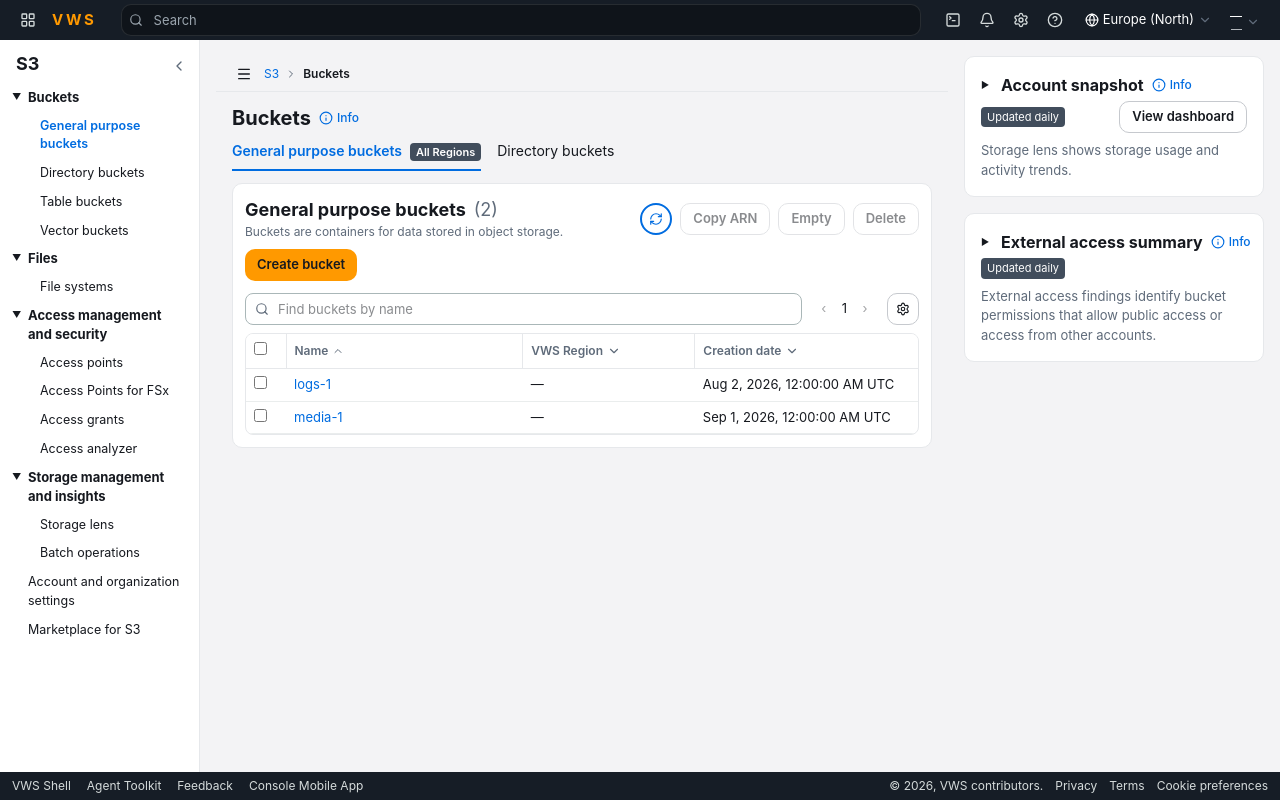
Test: BucketsView › refreshes after a partial delete and keeps the bucket that failed
Click the checkbox named "Select logs-1".
click(260, 382)  # box top-left (254, 376), bottom-right (267, 389)
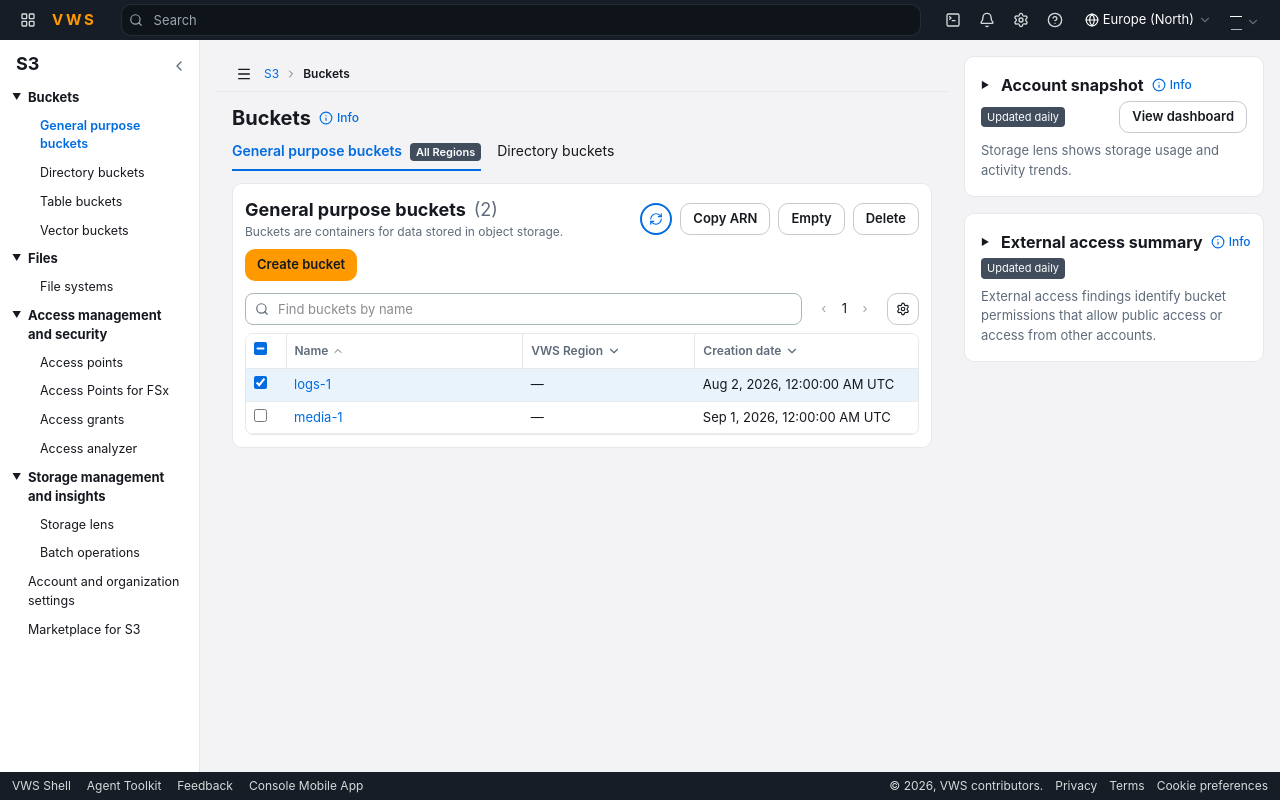
Click the checkbox named "Select media-1".
click(260, 415)  # box top-left (254, 408), bottom-right (267, 422)
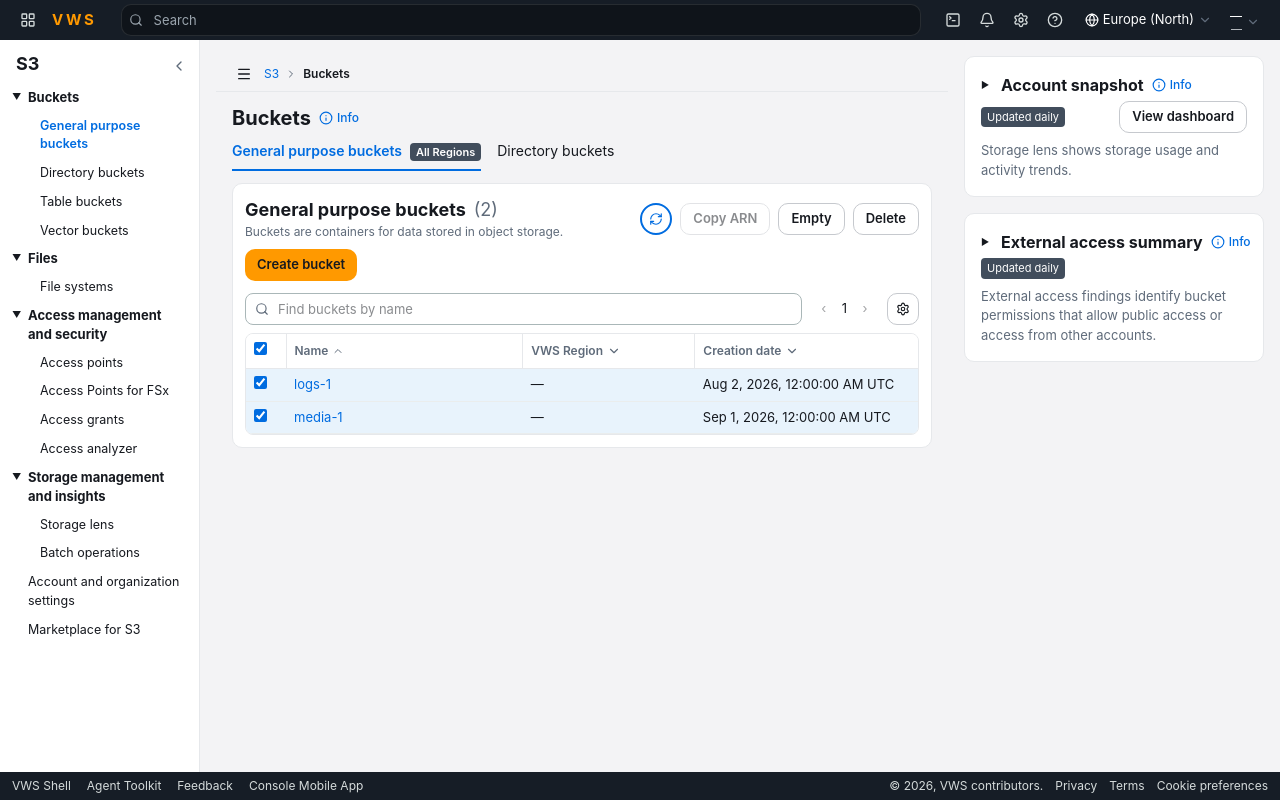
Click the button "Delete".
click(886, 218)  # box top-left (853, 202), bottom-right (919, 234)
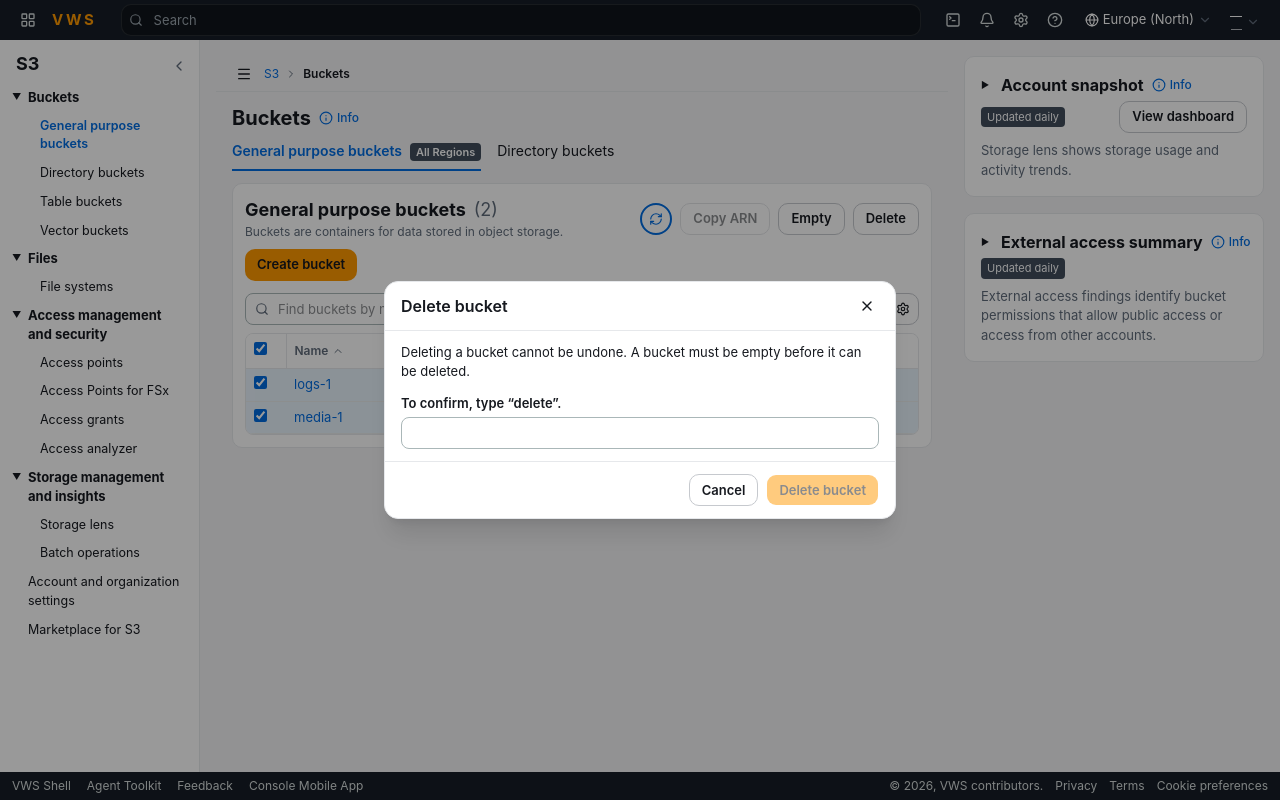
Type "delete" into the field.
click(640, 433); type("delete")  # box top-left (401, 417), bottom-right (879, 449)
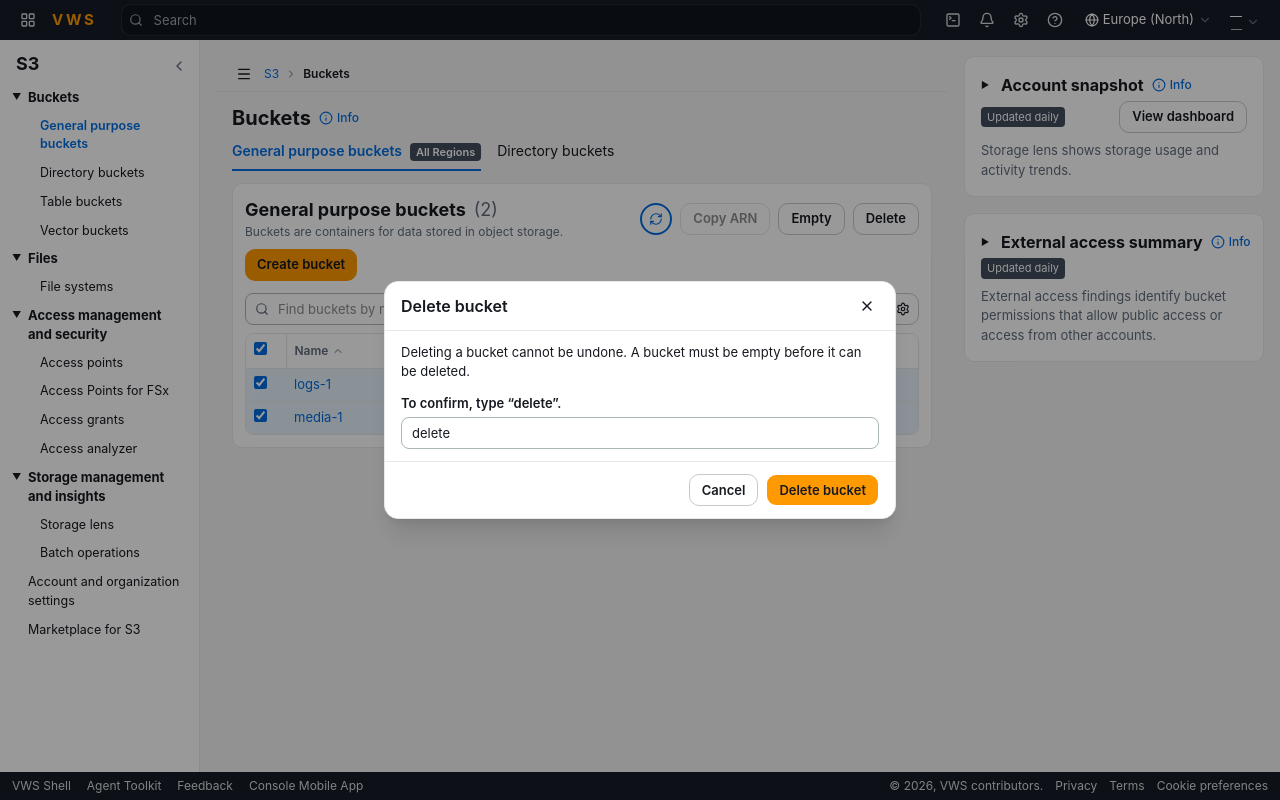
Click the button "Delete bucket".
click(823, 490)  # box top-left (766, 474), bottom-right (879, 506)
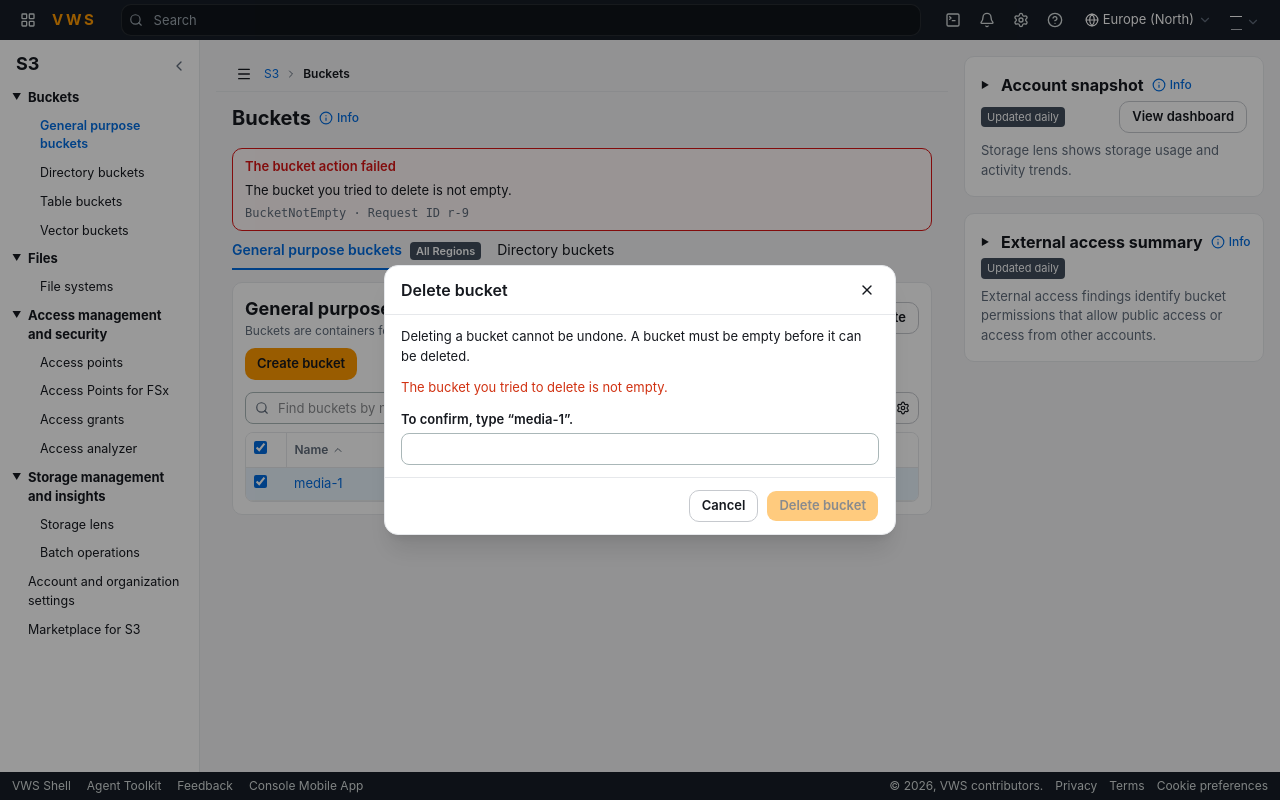
Expected: the checkbox named "Select media-1" is checked, top-left (254, 475), bottom-right (267, 488)
Expected: the text "The bucket you tried to delete is not empty." is shown, top-left (401, 379), bottom-right (668, 395)
